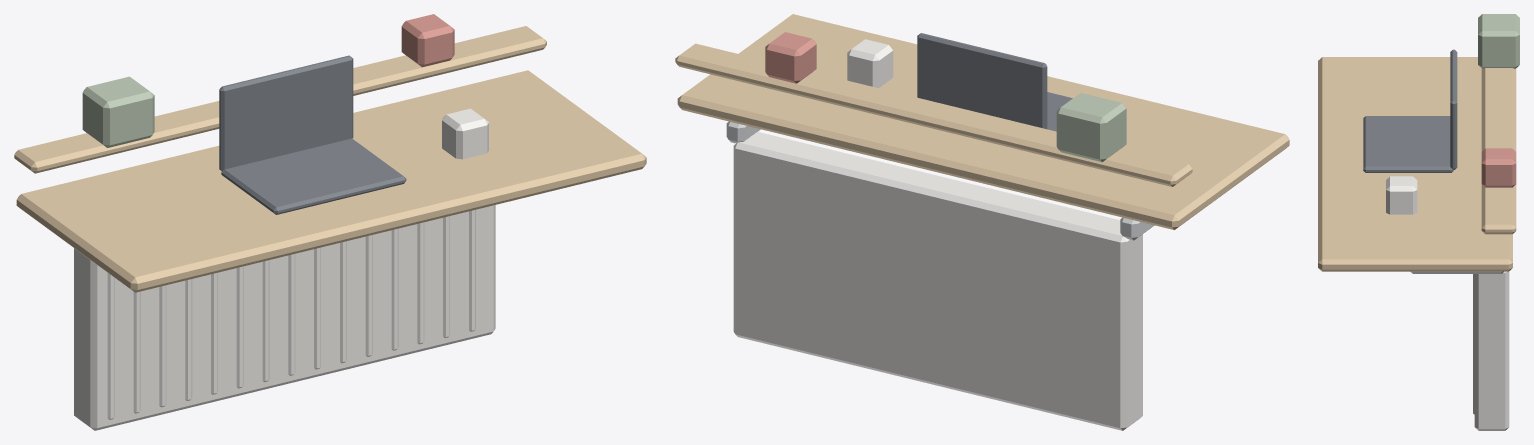
File: WindowsillDesk.glb
3 renders of one model, left to right at view 1: azimuth 30°, elevation 25°; view 2: azimuth 150°, elevation 25°; view 3: azimuth 270°, elevation 25°, orthographic. The views are drawn at different scales.
Visible parts, largest first — view 1: WindowsillDesk_Body; view 2: WindowsillDesk_Body; view 3: WindowsillDesk_Body.
Part boxes in pixels (<box>): WindowsillDesk_Body: <box>14,14,646,430</box>; WindowsillDesk_Body: <box>675,14,1289,430</box>; WindowsillDesk_Body: <box>1318,14,1519,430</box>.
Size of the model in its own units: 1.4 by 0.85 by 0.58.
